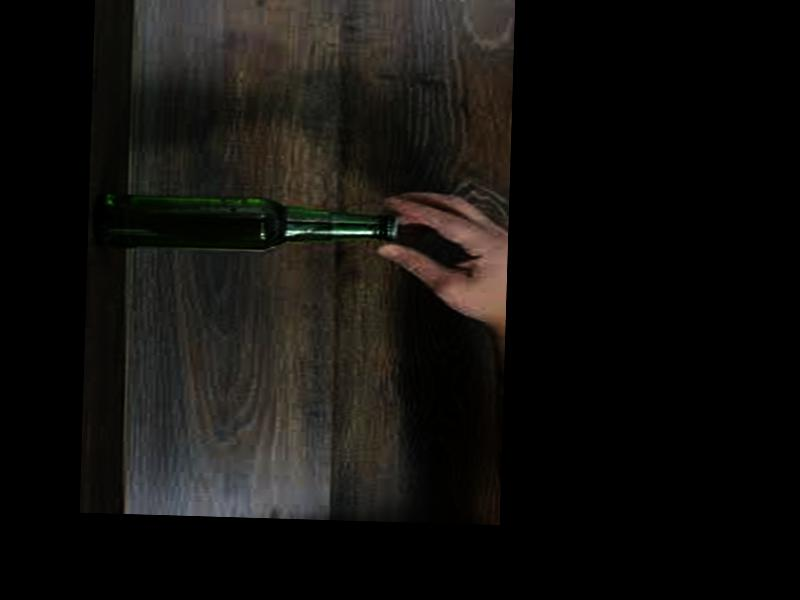Beer: (95, 193, 400, 257)
